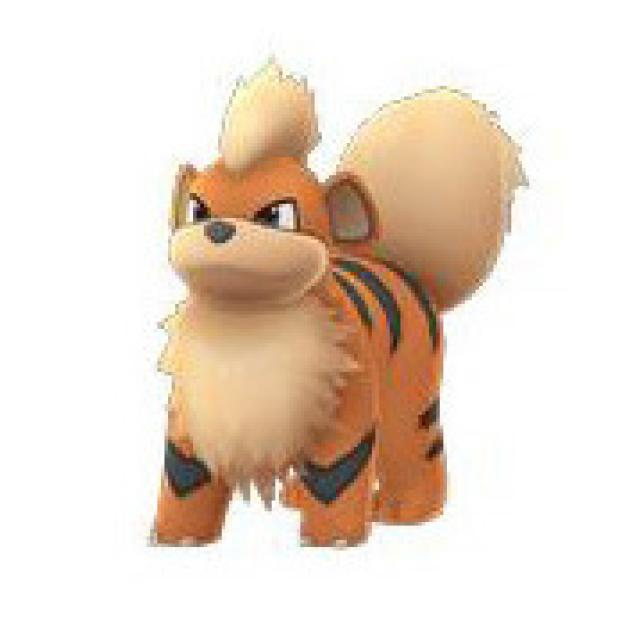Growlithe: (144, 77, 525, 559)
